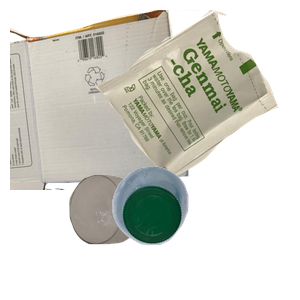cardboard: (10, 10, 191, 190)
glass: (67, 172, 229, 300)
plastic: (110, 164, 300, 300)
trash: (91, 10, 300, 186)
